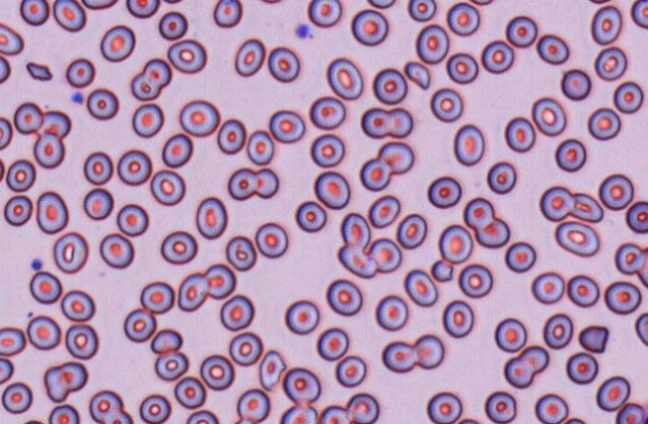PLT: (294, 22, 313, 40), (69, 89, 84, 105), (29, 257, 44, 272)
RBC: (43, 361, 88, 402), (130, 58, 171, 101), (554, 220, 599, 257), (178, 99, 220, 136), (326, 57, 363, 99), (282, 366, 321, 405), (52, 231, 88, 273), (35, 190, 68, 234), (350, 8, 388, 46), (313, 170, 350, 209), (438, 223, 473, 264), (325, 278, 362, 316), (166, 38, 206, 73), (531, 96, 566, 136), (195, 196, 227, 239), (99, 24, 135, 62), (338, 243, 377, 278), (415, 24, 449, 64), (453, 123, 484, 166), (149, 169, 185, 206), (116, 148, 152, 185), (598, 173, 634, 210), (590, 4, 622, 45), (219, 294, 254, 331), (372, 67, 407, 104), (99, 232, 134, 269), (403, 268, 437, 306), (539, 185, 574, 221), (199, 354, 234, 390), (595, 375, 630, 411), (604, 280, 641, 314), (268, 109, 305, 143), (254, 221, 288, 258), (160, 230, 197, 264), (177, 272, 209, 311), (442, 299, 474, 338), (458, 263, 493, 298), (284, 299, 319, 334), (64, 323, 98, 359), (309, 95, 345, 129), (26, 314, 60, 350), (377, 141, 414, 174), (375, 294, 408, 331), (367, 237, 401, 272), (236, 388, 270, 423), (228, 331, 262, 366), (309, 133, 344, 167), (139, 280, 174, 314), (446, 1, 480, 36), (381, 340, 417, 373), (267, 46, 300, 82), (234, 38, 265, 76), (89, 389, 123, 423), (480, 39, 514, 73), (494, 317, 527, 352), (316, 326, 349, 361), (60, 289, 95, 322), (430, 87, 463, 122), (204, 263, 236, 299), (426, 391, 462, 423), (542, 312, 573, 349), (367, 194, 400, 228), (123, 308, 156, 342), (530, 271, 564, 304), (131, 103, 164, 137), (29, 270, 62, 304), (427, 175, 461, 208), (594, 46, 627, 80), (587, 107, 621, 140), (161, 133, 193, 168), (339, 212, 370, 248), (413, 333, 444, 369), (33, 132, 64, 168), (396, 213, 427, 249), (225, 235, 256, 271), (504, 116, 535, 152), (173, 376, 206, 409), (565, 351, 598, 384), (566, 274, 599, 307), (359, 157, 391, 191), (52, 0, 86, 32), (554, 138, 586, 172), (474, 217, 509, 248), (344, 392, 379, 423), (216, 118, 246, 154), (484, 390, 516, 423), (116, 203, 148, 236), (86, 87, 118, 120), (5, 158, 36, 192), (463, 197, 495, 229), (334, 355, 366, 387), (294, 200, 326, 232), (446, 52, 478, 84), (505, 15, 537, 47), (1, 381, 32, 414), (536, 33, 569, 64), (154, 351, 188, 381), (534, 393, 568, 423), (486, 160, 516, 194), (83, 151, 113, 185), (246, 129, 274, 165), (503, 356, 534, 388), (504, 241, 536, 272), (560, 68, 591, 100), (227, 167, 257, 200), (38, 109, 71, 139), (570, 192, 603, 222), (614, 242, 644, 275), (13, 101, 43, 134), (83, 187, 113, 220), (139, 393, 171, 423), (613, 81, 643, 113), (307, 0, 342, 27), (360, 107, 390, 138), (65, 57, 95, 88), (3, 194, 32, 226), (518, 345, 549, 374), (158, 11, 188, 40), (150, 328, 182, 354), (387, 107, 413, 138), (213, 0, 242, 27), (0, 326, 26, 356), (0, 22, 23, 55), (19, 0, 49, 25), (255, 167, 279, 198), (625, 200, 647, 233), (279, 404, 317, 423), (615, 402, 646, 423), (317, 404, 351, 423), (125, 0, 160, 18), (407, 0, 436, 21), (48, 404, 79, 423), (99, 408, 133, 423), (630, 0, 647, 28), (186, 409, 219, 423), (634, 312, 647, 346), (636, 247, 647, 287), (0, 116, 12, 149), (0, 357, 13, 384), (81, 0, 118, 9), (0, 54, 10, 83), (366, 0, 396, 8), (234, 416, 258, 424), (457, 417, 480, 423), (563, 417, 585, 423), (0, 157, 5, 182), (469, 0, 494, 5), (23, 419, 44, 424), (587, 0, 613, 4), (258, 0, 283, 4), (162, 0, 184, 4)
Schistocyte: (260, 349, 287, 391), (578, 325, 611, 354), (404, 61, 430, 91), (25, 61, 53, 81), (429, 260, 454, 282)
